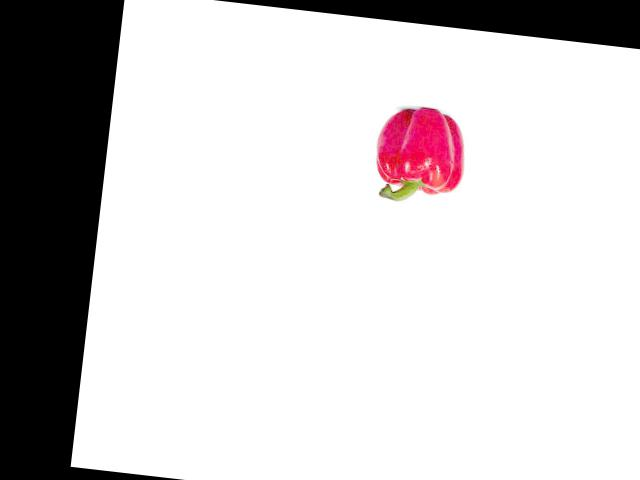bell_pepper: (368, 103, 475, 210)
